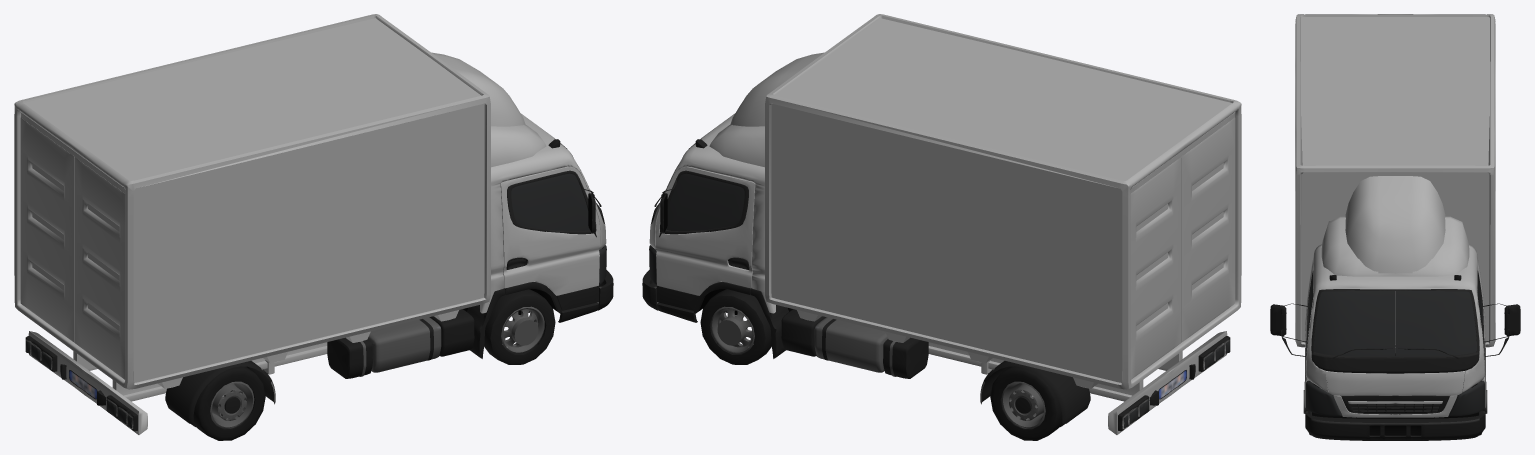
Rendered from xiaohuoche003.fbx.
The picture shows the model from 3 angles, left to right: view 1: azimuth 30°, elevation 25°; view 2: azimuth 150°, elevation 25°; view 3: azimuth 270°, elevation 25°; orthographic projection. The views are drawn at different scales.
Visible parts, largest first — view 1: xiaohuoche003; view 2: xiaohuoche003; view 3: xiaohuoche003.
Part boxes in pixels (left/top/right/bottom): xiaohuoche003: left=14, top=14, right=613, bottom=440; xiaohuoche003: left=642, top=14, right=1241, bottom=440; xiaohuoche003: left=1270, top=14, right=1520, bottom=440.
Bounding box in the file's own units: 6.48 × 3.5 × 3.2.
